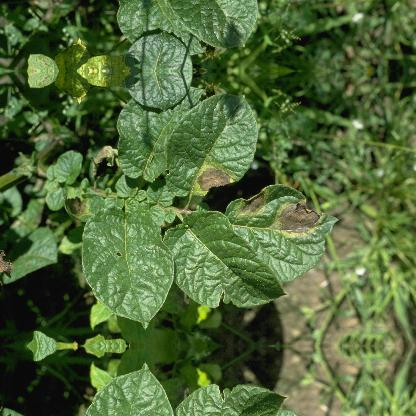Early-Blight: (222, 164, 342, 264), (150, 90, 260, 198), (150, 0, 259, 49), (76, 134, 128, 180)
